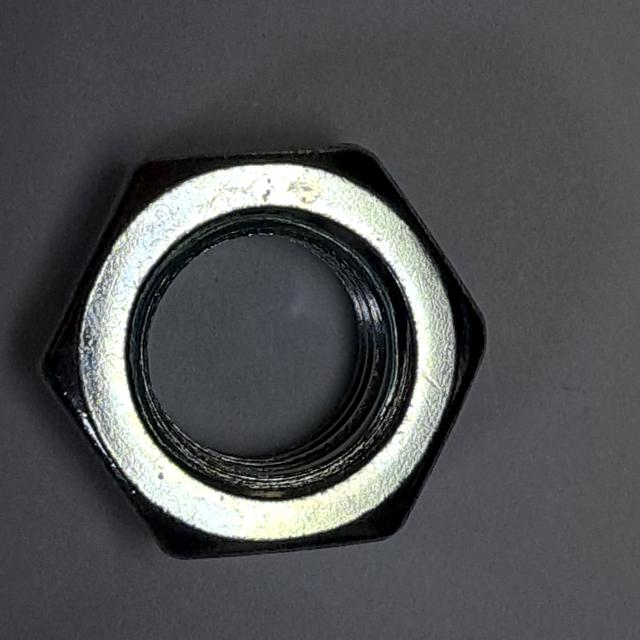Excellent: (25, 128, 499, 579)
